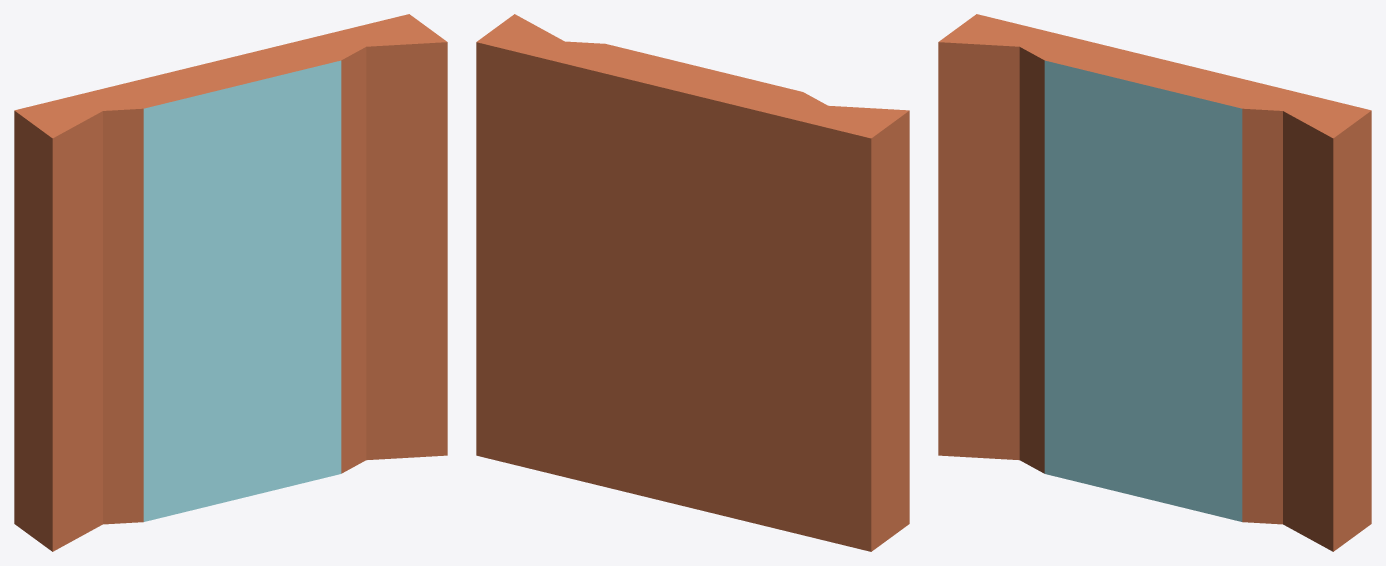
File: cliff_waterfall_rock.fbx
3 views of the same model, side by side, from view 1: azimuth 30°, elevation 25°; view 2: azimuth 150°, elevation 25°; view 3: azimuth 330°, elevation 25° (orthographic).
Parts seen in each view (by area): view 1: cliff_waterfall_rock; view 2: cliff_waterfall_rock; view 3: cliff_waterfall_rock.
Part boxes in pixels (x1,y1,x2,y2): cliff_waterfall_rock: [14, 14, 447, 551]; cliff_waterfall_rock: [476, 14, 909, 551]; cliff_waterfall_rock: [938, 14, 1371, 551].
Bounding box in the file's own units: 10 × 10 × 1.68.
